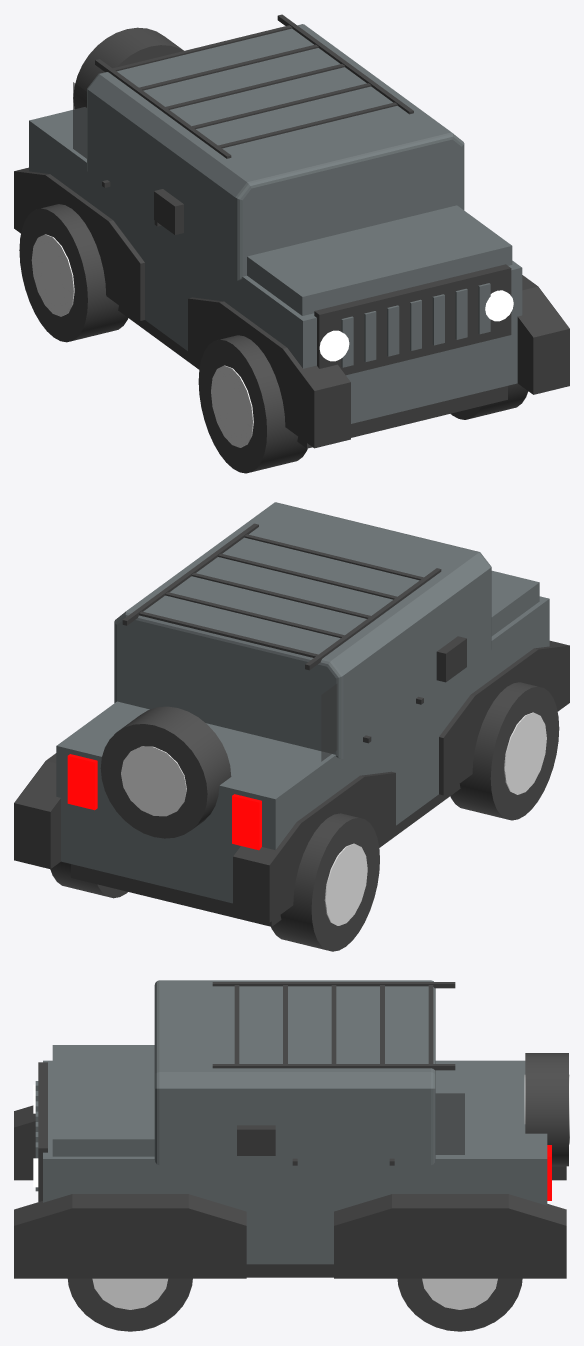
The model's file is a-hummer.gltf.
3 renders of one model, top to bottom at view 1: azimuth 30°, elevation 25°; view 2: azimuth 150°, elevation 25°; view 3: azimuth 270°, elevation 25°, orthographic. The views are drawn at different scales.
Bounding box in the file's own units: 1.5 × 1.41 × 2.87.
